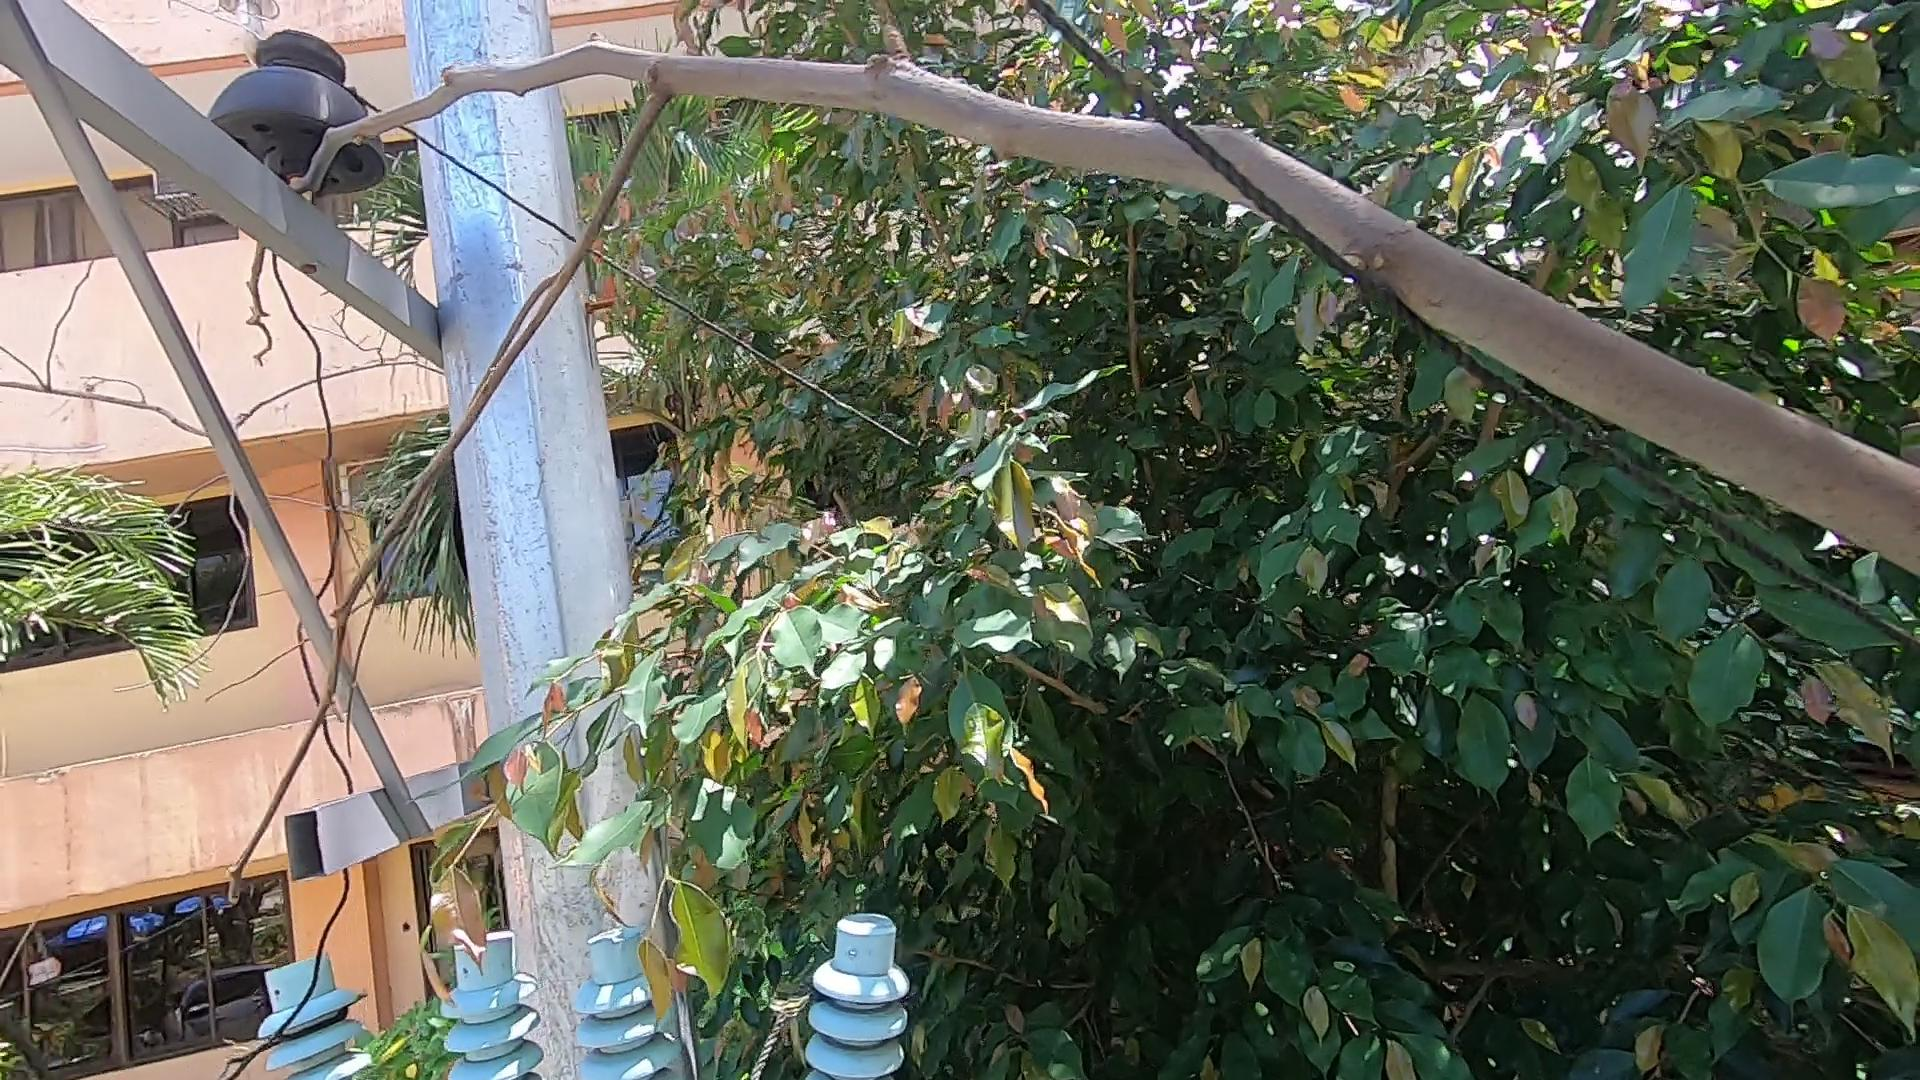branch with leaves: (436, 624, 753, 1015)
tree branch: (12, 34, 1572, 890)
